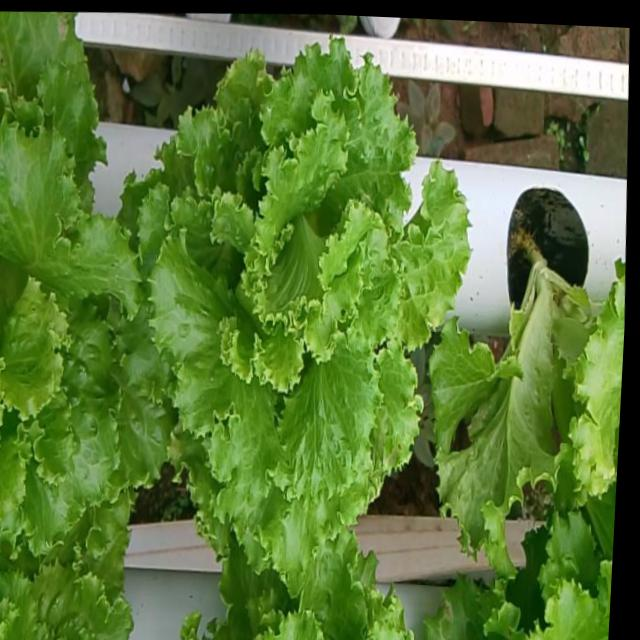Mature: (150, 35, 485, 574), (0, 108, 181, 551)
